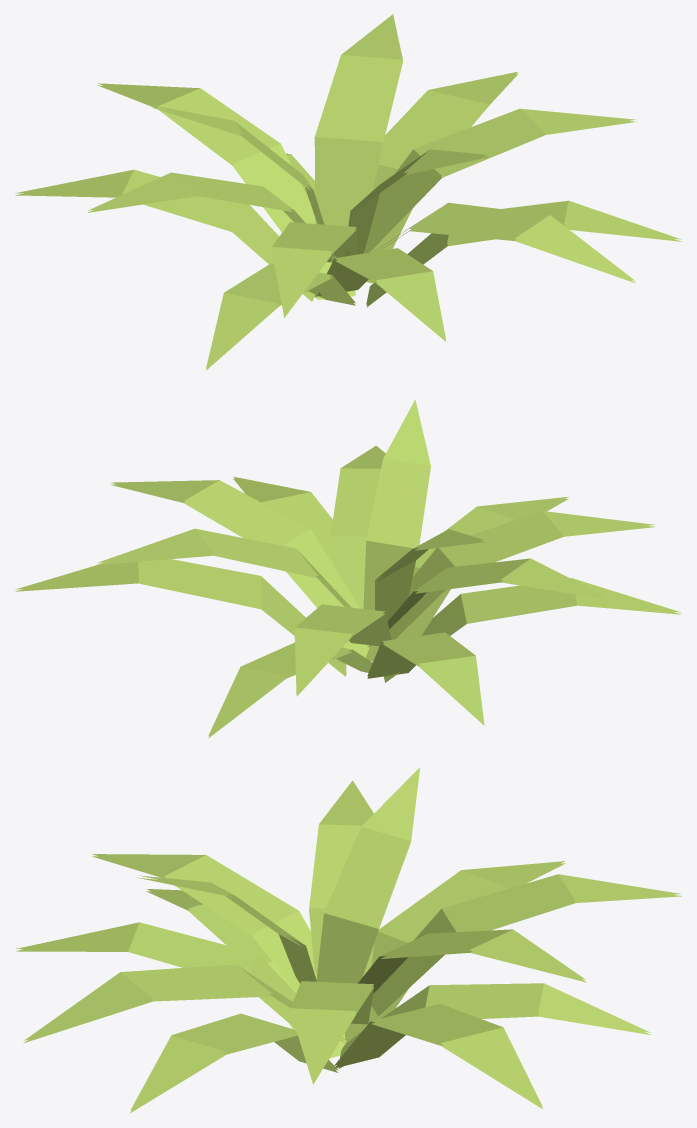
File: Plant1_tex.fbx
3 views of the same model, one above another, from view 1: azimuth 30°, elevation 25°; view 2: azimuth 150°, elevation 25°; view 3: azimuth 270°, elevation 25° (orthographic). The views are drawn at different scales.
Visible parts, largest first — view 1: Plant1_tex; view 2: Plant1_tex; view 3: Plant1_tex.
Boxes of the visible parts, left/top/right/bottom form: Plant1_tex: left=15, top=14, right=682, bottom=370; Plant1_tex: left=15, top=399, right=682, bottom=738; Plant1_tex: left=15, top=768, right=681, bottom=1113.
Bounding box in the file's own units: 1.88 × 0.6868 × 1.93.
